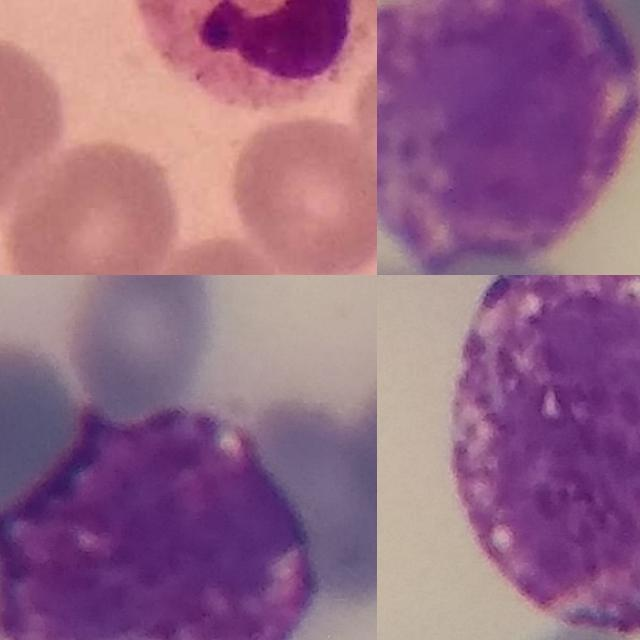Basophil: (0, 400, 321, 640), (377, 0, 640, 273), (445, 275, 640, 636)
Neutrophil: (131, 0, 377, 104)
